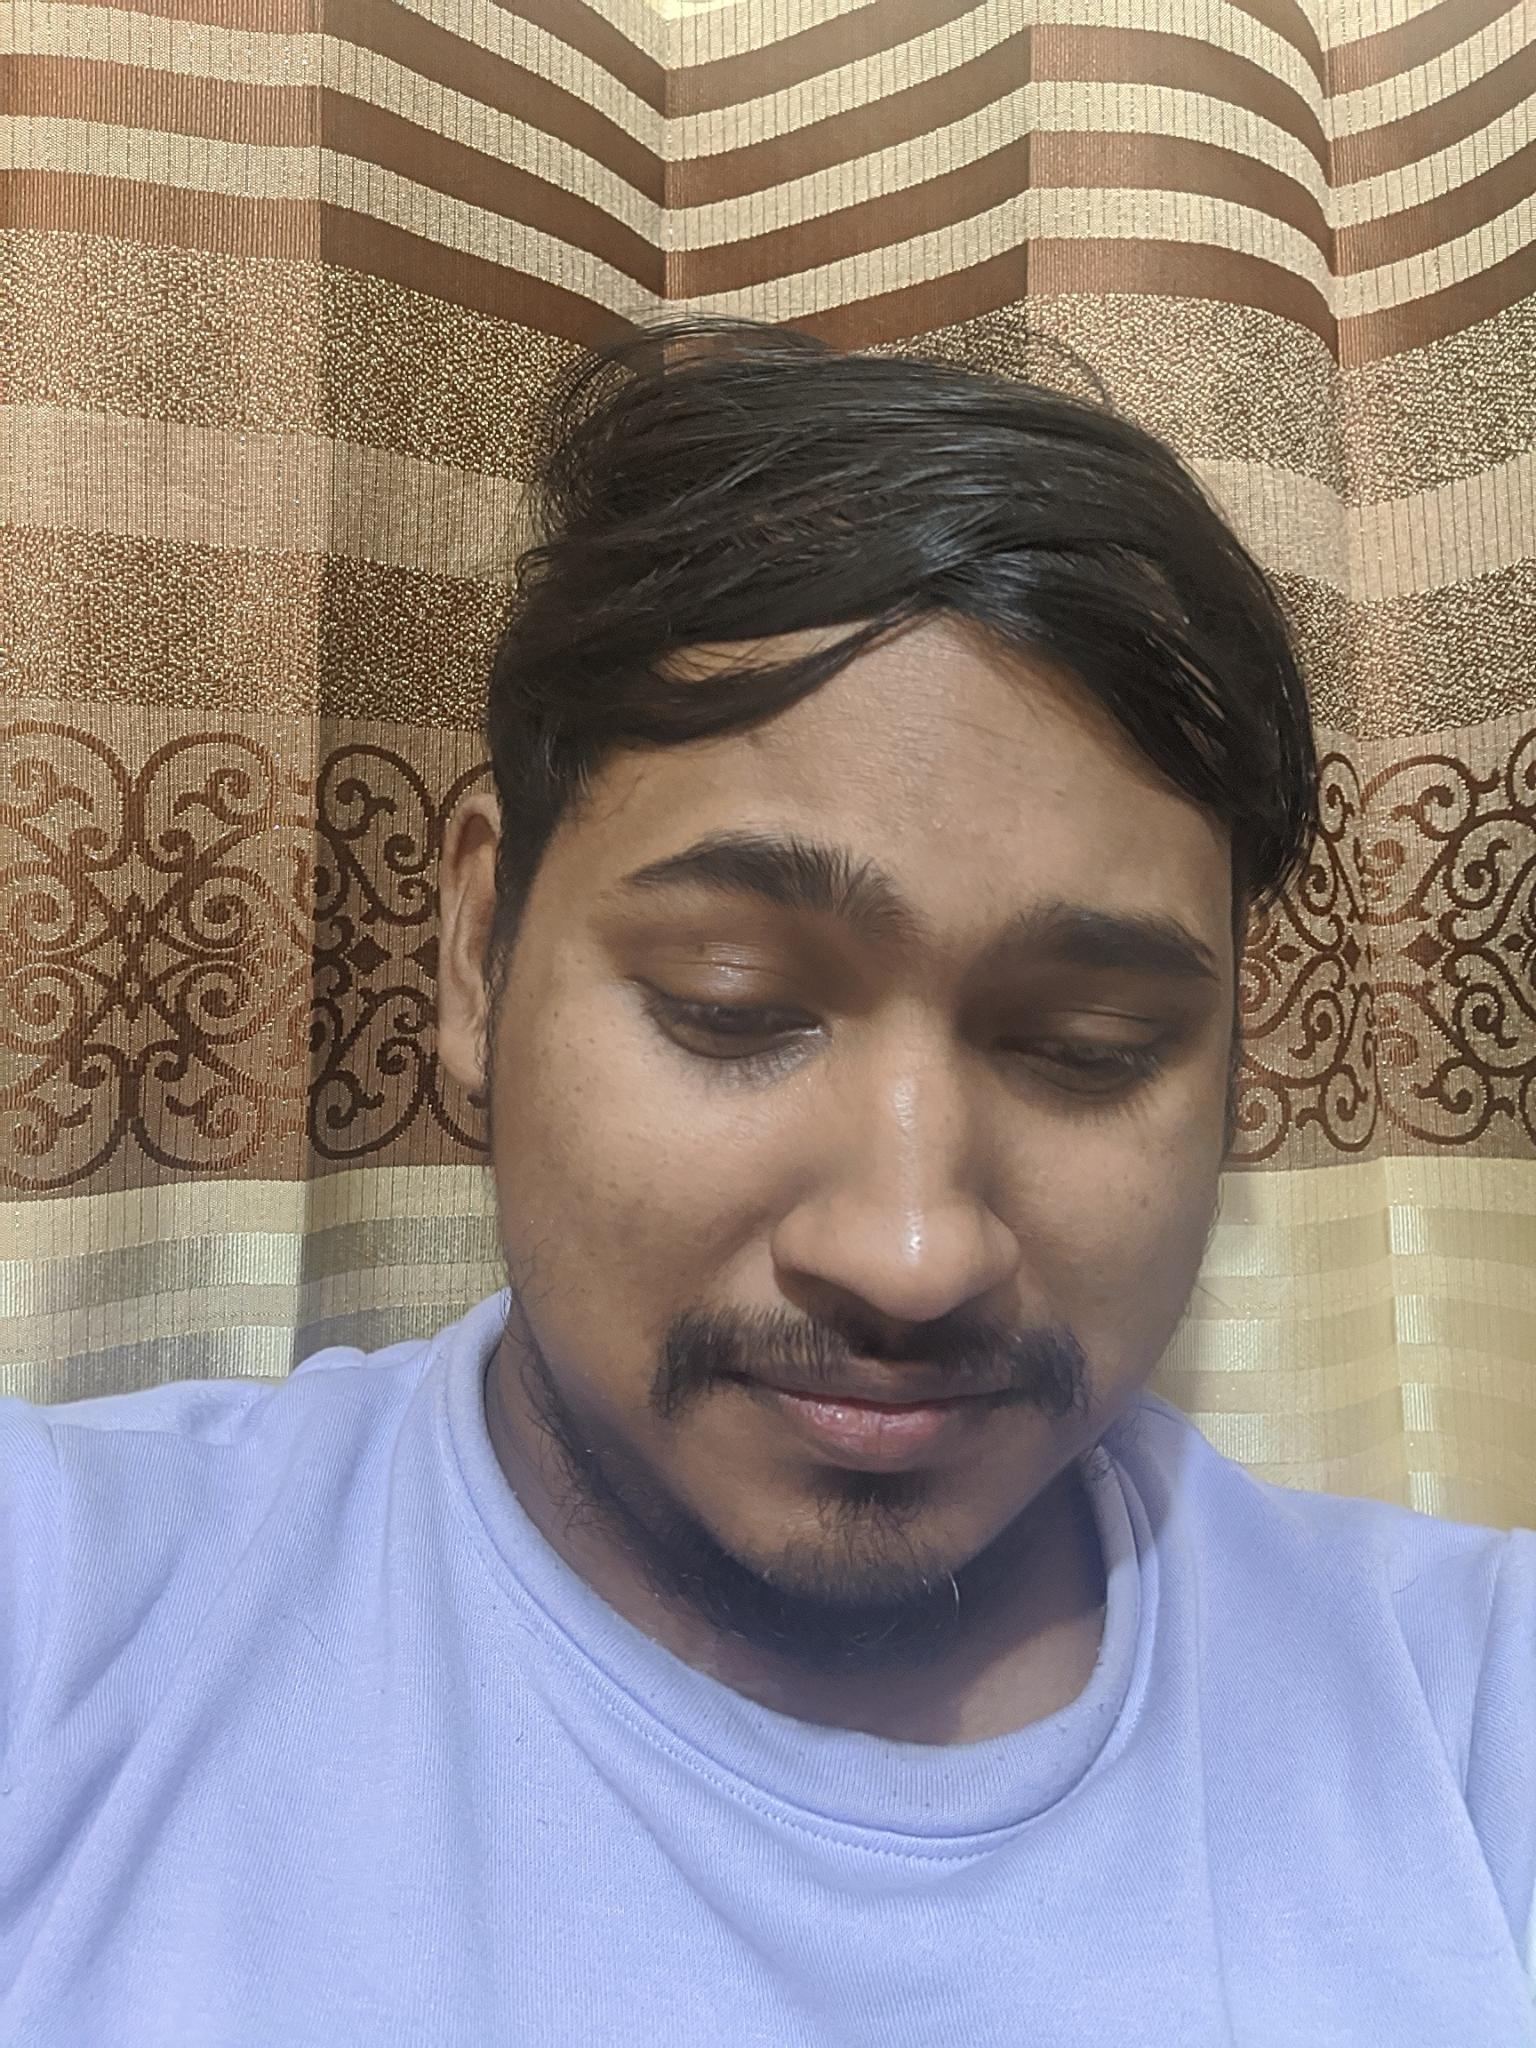Sad: (539, 739, 1238, 1638)
